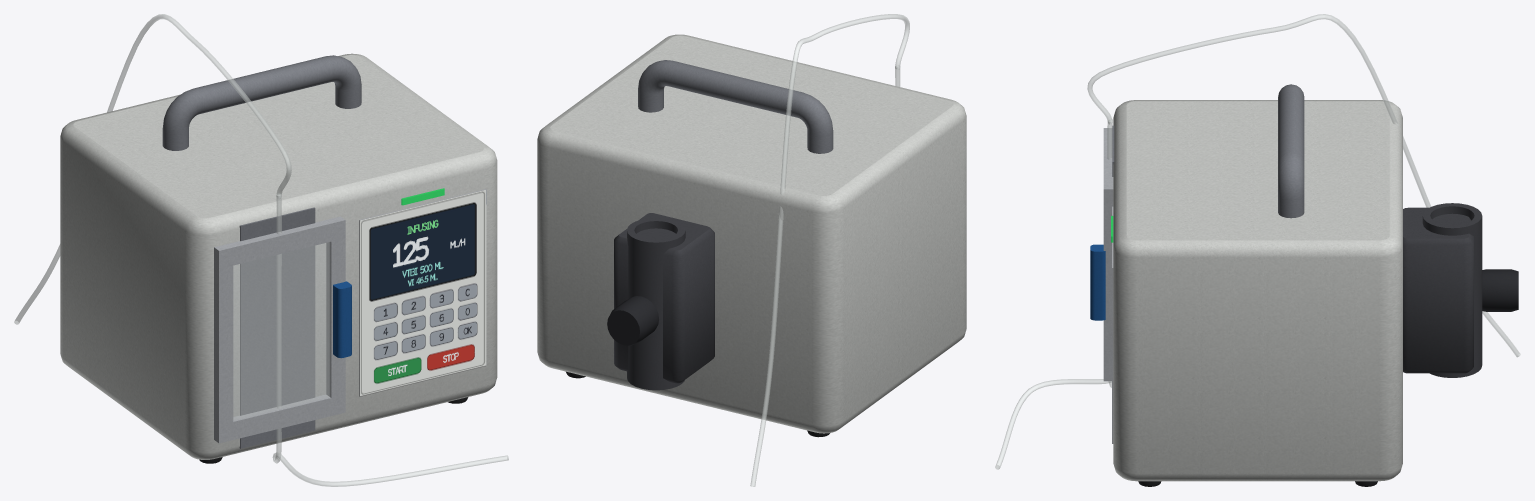
Rendered from infusion-pump.glb.
3 views of the same model, side by side, from view 1: azimuth 30°, elevation 25°; view 2: azimuth 150°, elevation 25°; view 3: azimuth 270°, elevation 25° (orthographic).
Parts seen in each view (by area): view 1: Pump housing, Display and keypad, Door window, Line channel, Door frame, Carry handle, Infusion line, Door latch; view 2: Pump housing, Pole clamp, Carry handle, Infusion line; view 3: Pump housing, Pole clamp, Infusion line, Carry handle, Door frame, Door latch.
Boxes of the visible parts, x1,y1,x2,y2 form: Pump housing: (60, 53, 497, 459); Display and keypad: (359, 189, 486, 396); Door window: (233, 242, 330, 420); Line channel: (239, 207, 315, 448); Door frame: (214, 216, 345, 443); Carry handle: (162, 55, 361, 150); Infusion line: (14, 14, 508, 486); Door latch: (333, 281, 351, 358); Pump housing: (537, 34, 966, 433); Pole clamp: (607, 213, 714, 390); Carry handle: (638, 60, 833, 153); Infusion line: (750, 14, 909, 486); Pump housing: (1113, 100, 1402, 481); Pole clamp: (1403, 203, 1518, 377); Infusion line: (995, 14, 1520, 469); Carry handle: (1278, 84, 1304, 218); Door frame: (1103, 128, 1113, 381); Door latch: (1090, 244, 1105, 320).
Size of the model in its own units: 0.215 by 0.248 by 0.3179.
11 materials, 11 textured.
